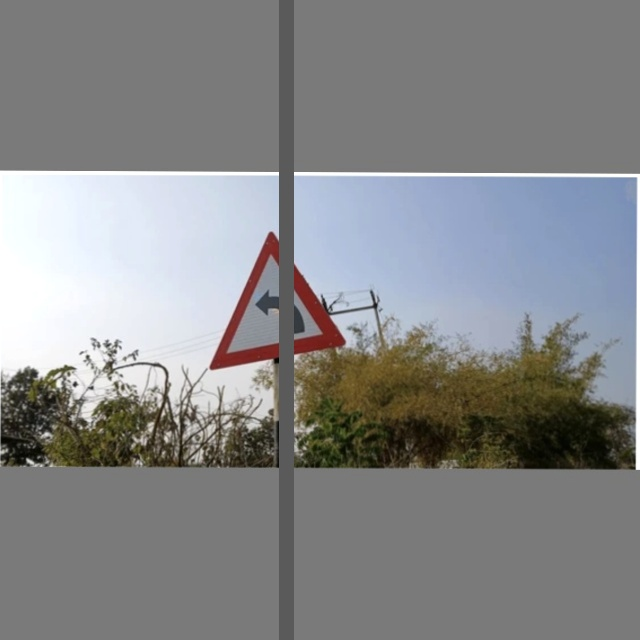Left_Hand_Curve: (208, 228, 338, 365)
